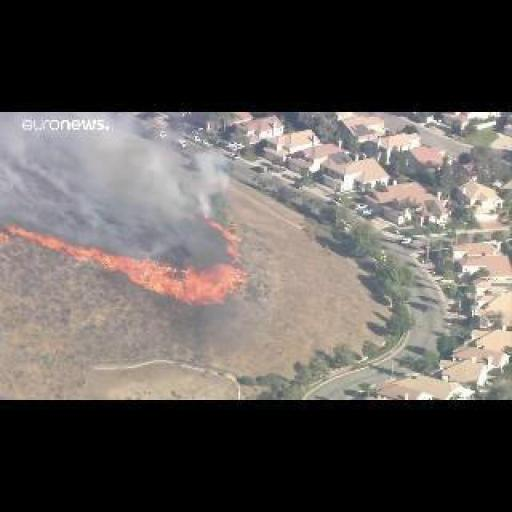smoke: (110, 254, 250, 304), (2, 227, 108, 264), (206, 220, 246, 262)
